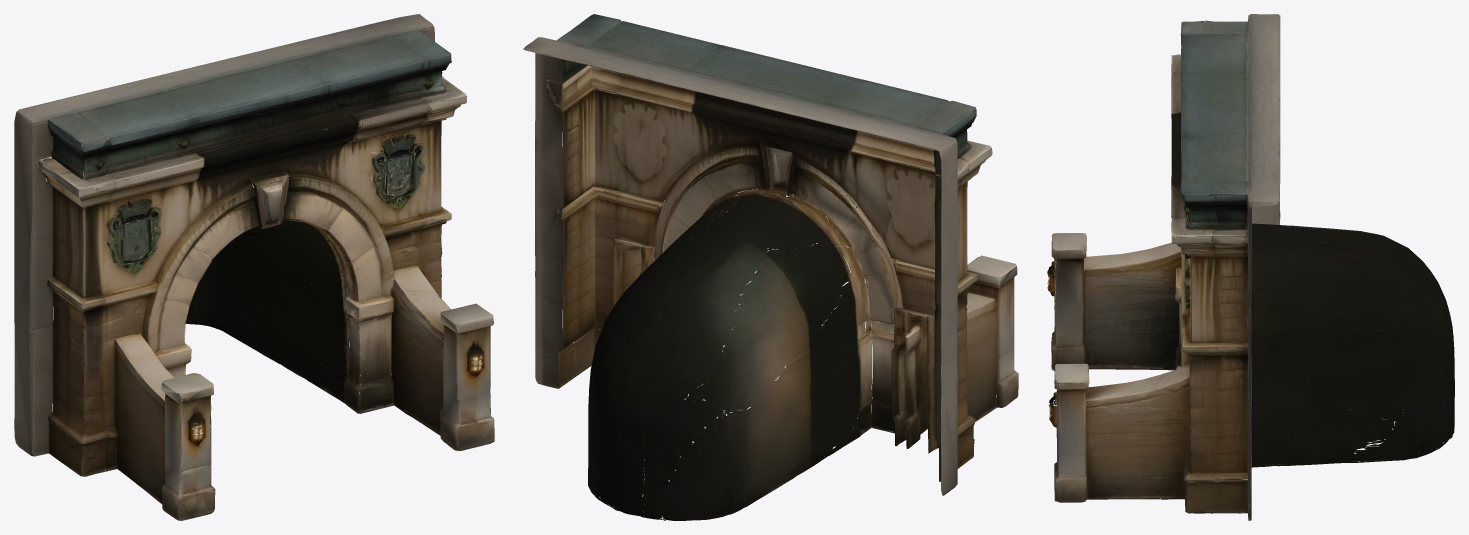
File: ch03_tram_tunnel_portal.glb
3 views of the same model, side by side, from view 1: azimuth 30°, elevation 25°; view 2: azimuth 150°, elevation 25°; view 3: azimuth 270°, elevation 25° (orthographic). The views are drawn at different scales.
Parts seen in each view (by area): view 1: material; view 2: material; view 3: material.
Part boxes in pixels (box(x1,y1,x2,y2)): material: box(14, 14, 494, 520); material: box(523, 14, 1018, 520); material: box(1047, 14, 1454, 520).
Bounding box in the file's own units: 0.8511 × 0.6728 × 0.773.
1 material, 1 textured.
